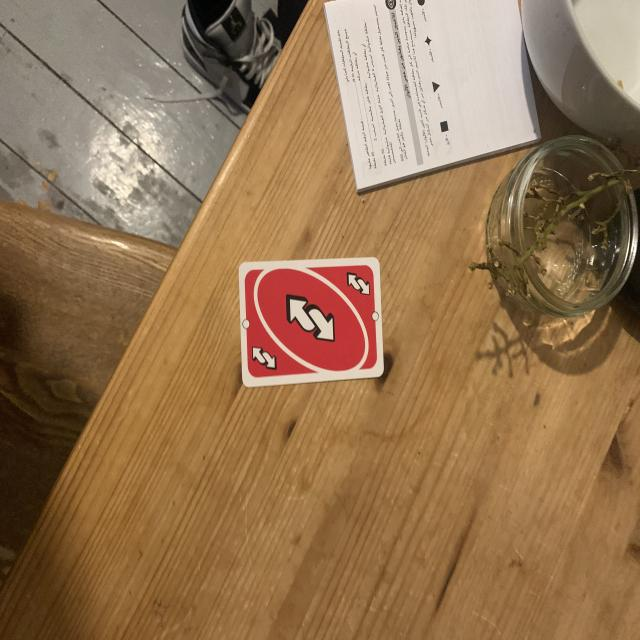lredrevers-20: (344, 267, 373, 299)
